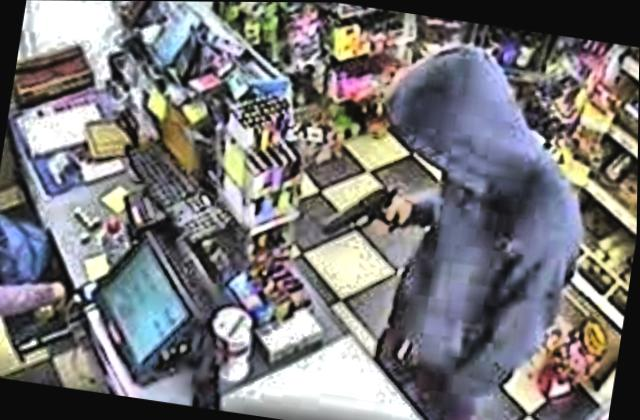pistol: (315, 167, 408, 251)
